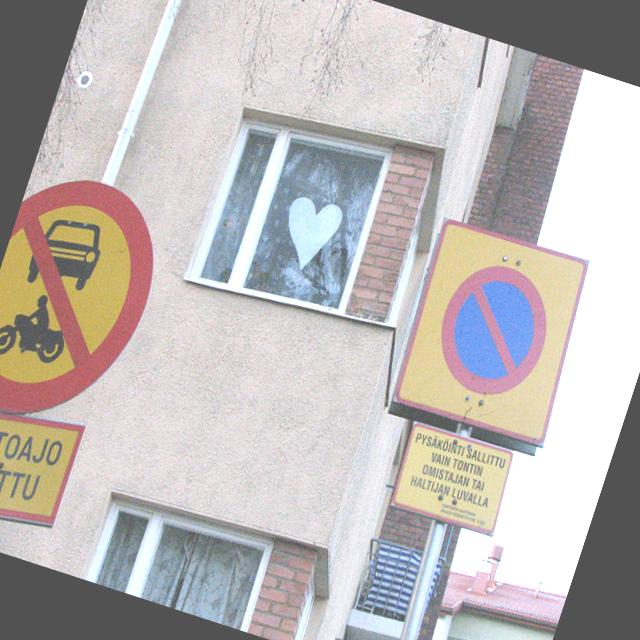Vehicle: (0, 302, 71, 372)
